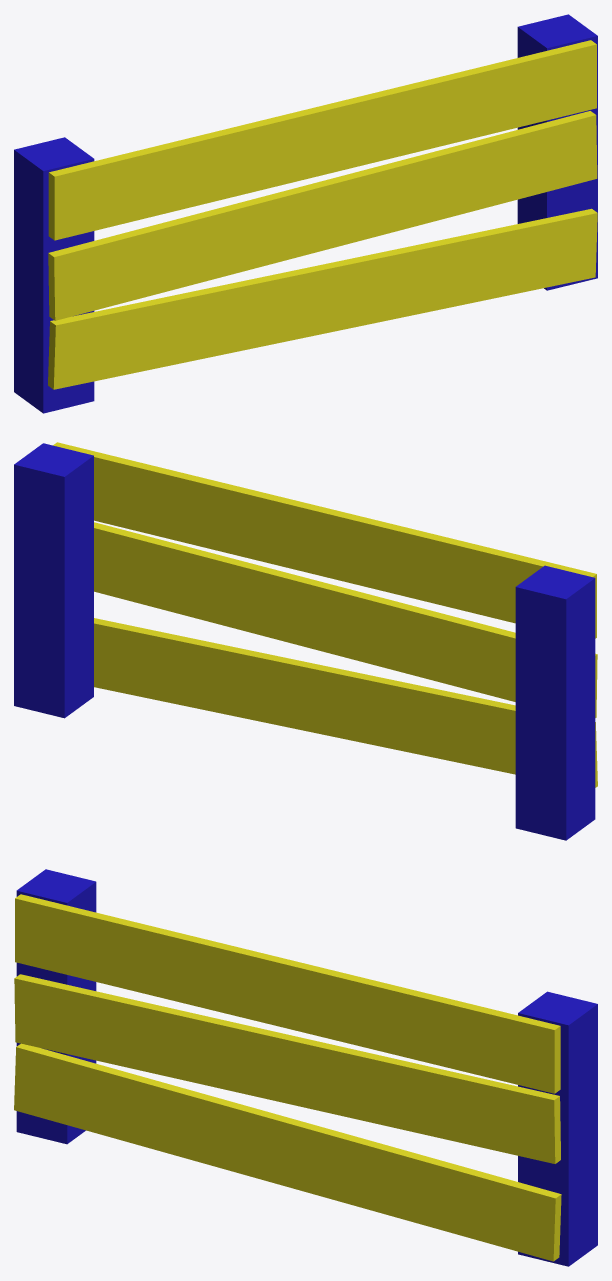
Rendered from Fence_LP.fbx.
3 renders of one model, top to bottom at view 1: azimuth 30°, elevation 25°; view 2: azimuth 150°, elevation 25°; view 3: azimuth 330°, elevation 25°, orthographic.
Visible parts, largest first — view 1: Bearicade_low; view 2: Bearicade_low; view 3: Bearicade_low.
Part boxes in pixels (x1=…): Bearicade_low: x1=14, y1=14, x2=597, y2=413; Bearicade_low: x1=14, y1=442, x2=597, y2=840; Bearicade_low: x1=14, y1=869, x2=597, y2=1266.
Size of the model in its own units: 85.77 by 35.83 by 9.6.
